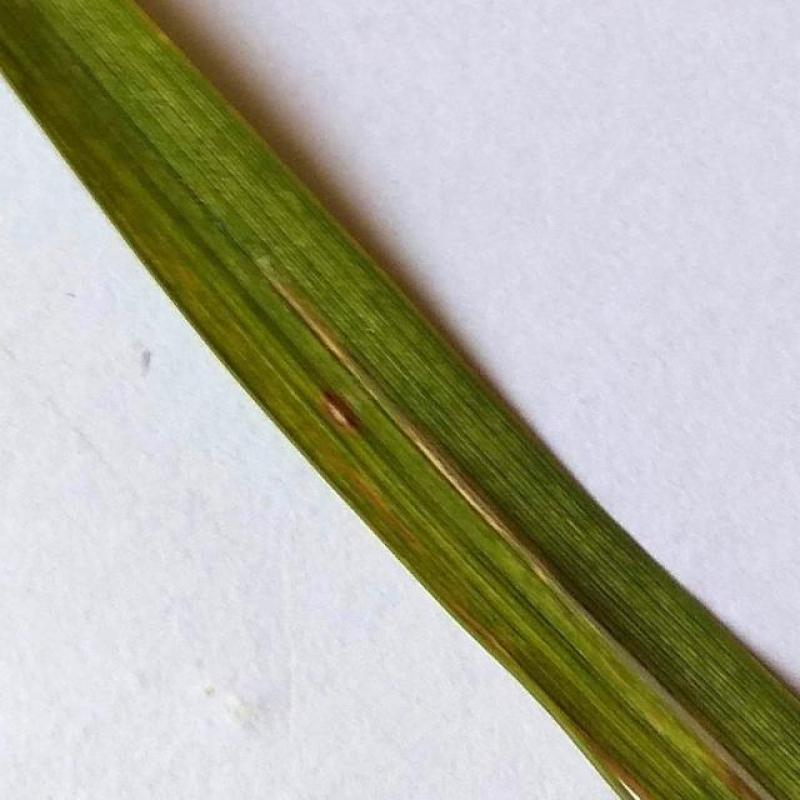Leaf_Blast: (315, 368, 369, 443)
